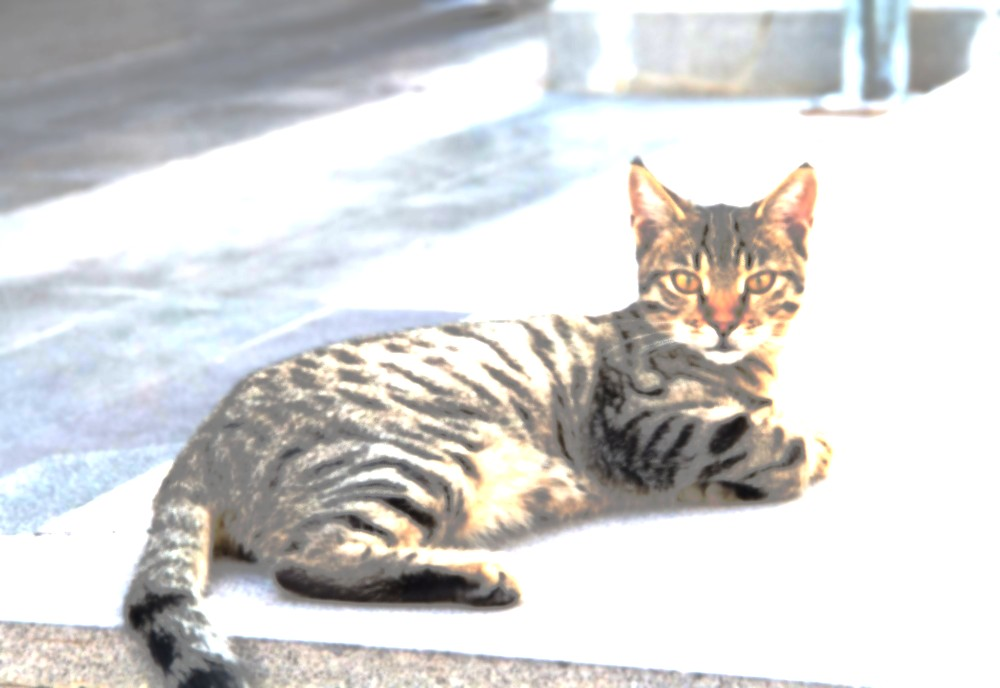cat: (124, 156, 834, 685)
